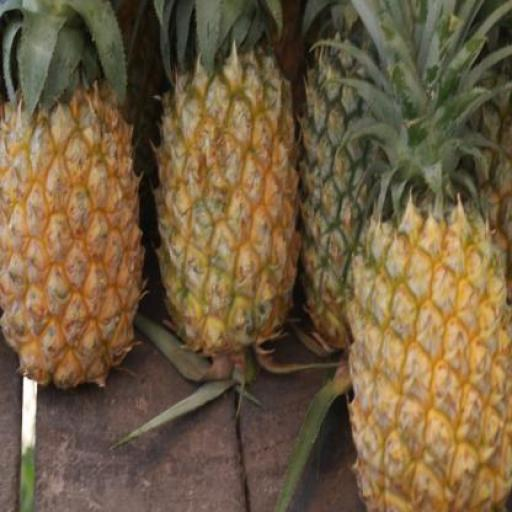------------------------------: (152, 44, 296, 350)
Pineapple - v8 v1: (350, 208, 510, 511), (0, 89, 150, 389)
